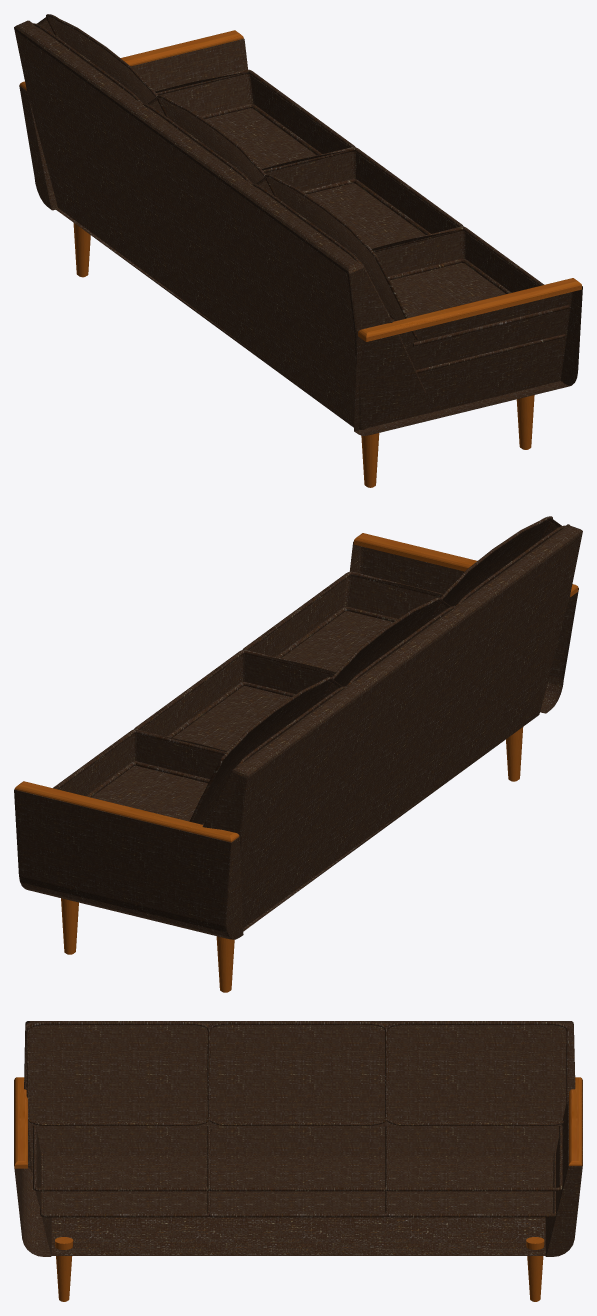
Rendered from Daniel2git.glb.
3 renders of one model, top to bottom at view 1: azimuth 30°, elevation 25°; view 2: azimuth 150°, elevation 25°; view 3: azimuth 270°, elevation 25°, orthographic. The views are drawn at different scales.
Parts seen in each view (by area): view 1: Cylinder.005, Cylinder.001; view 2: Cylinder.005, Cylinder.001; view 3: Cylinder.005, Cylinder.001.
Boxes of the visible parts, x1,y1,x2,y2 form: Cylinder.005: (14, 14, 582, 435); Cylinder.001: (19, 30, 581, 487); Cylinder.005: (14, 516, 582, 939); Cylinder.001: (14, 533, 578, 992); Cylinder.005: (14, 1021, 582, 1256); Cylinder.001: (14, 1077, 582, 1301).
Size of the model in its own units: 1.15 by 1.23 by 3.01.
2 materials, 2 textured.
